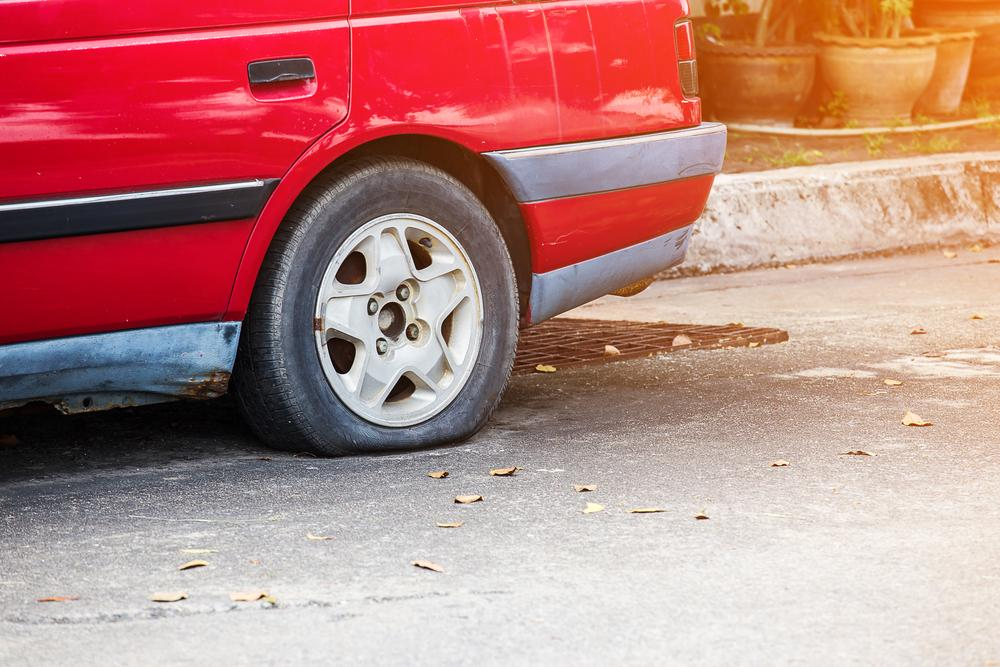tire flat: (234, 152, 521, 456)
